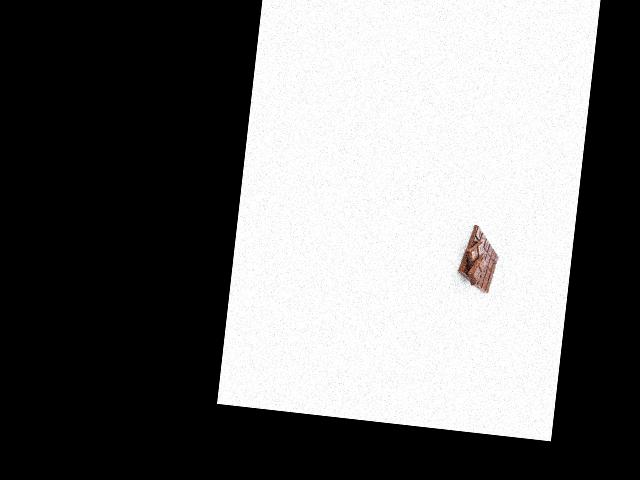chocolate: (452, 222, 505, 295)
